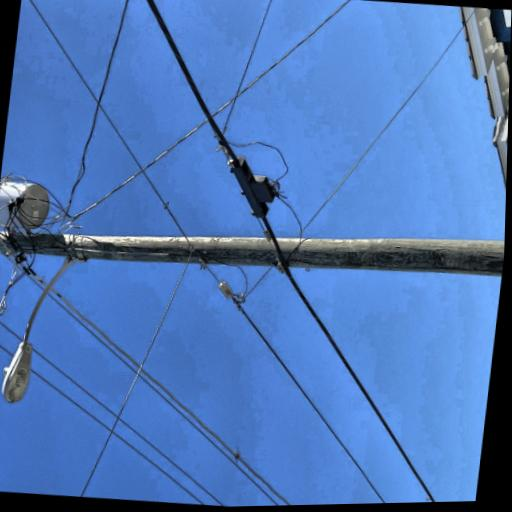pole: (60, 0, 192, 501)
street light: (0, 114, 125, 208)
transformer: (138, 81, 190, 165)
